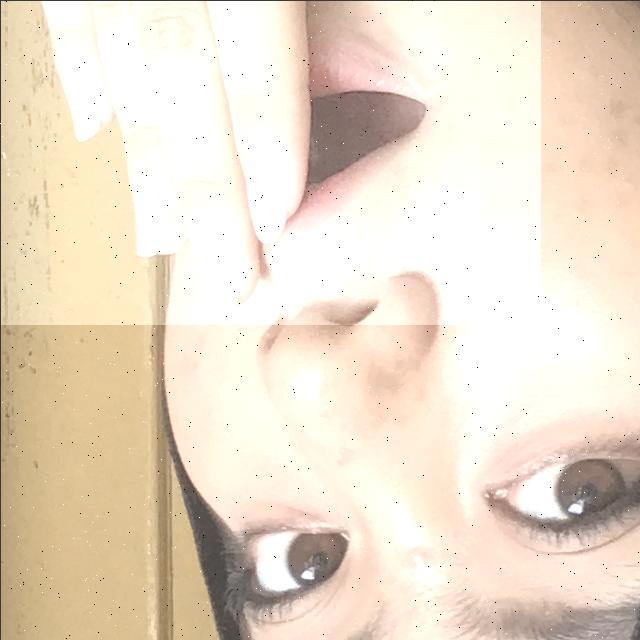ngantuk: (0, 0, 540, 324)
